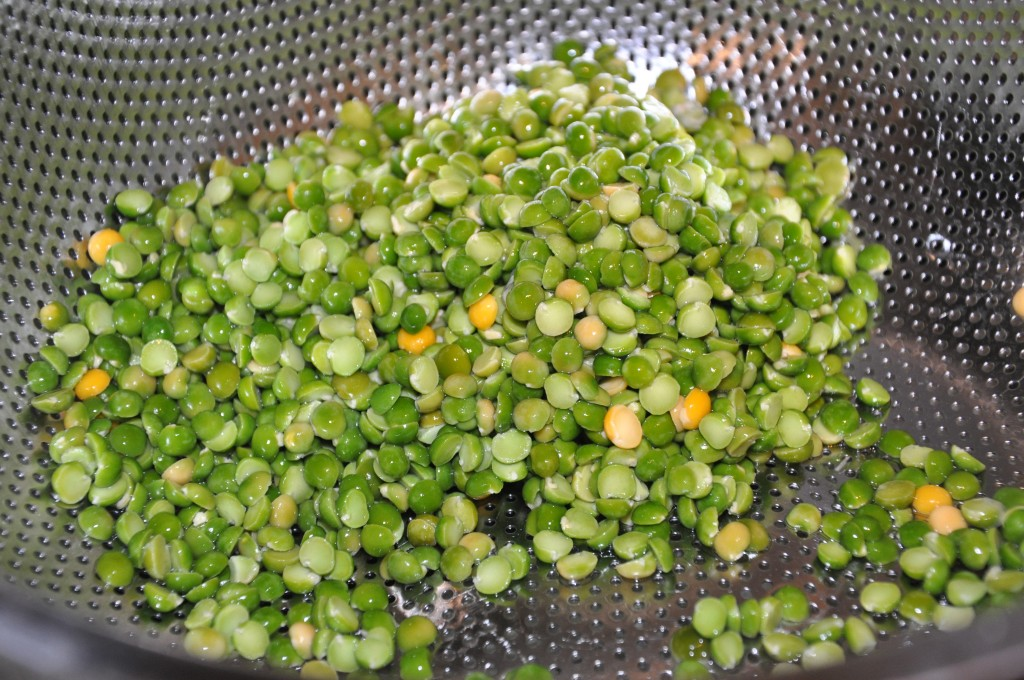boiled peas: (150, 204, 793, 501)
